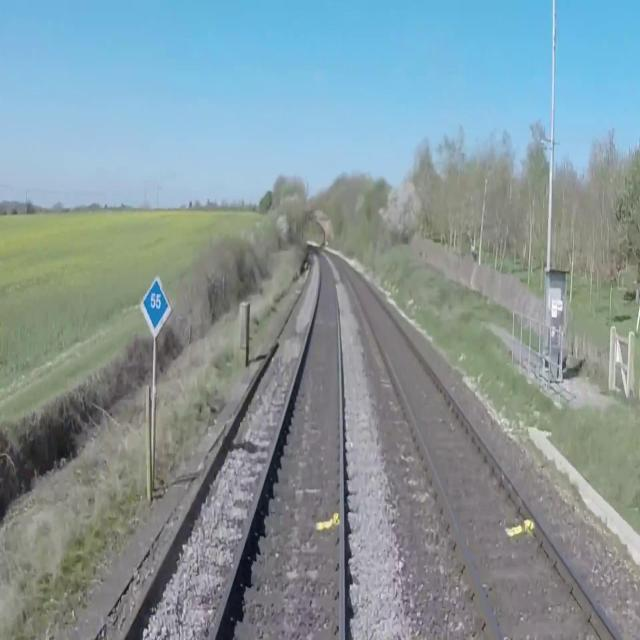rail-track: (214, 250, 340, 639)
